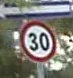limite 30: (19, 18, 58, 64)
